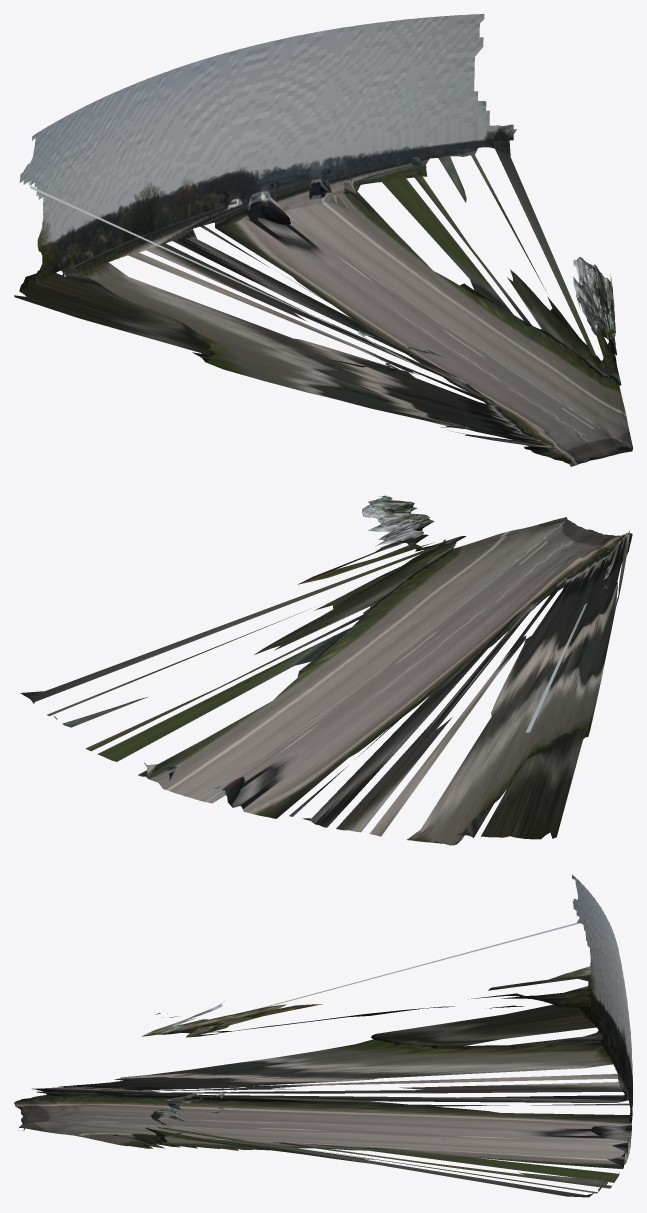
3 renders of one model, top to bottom at view 1: azimuth 30°, elevation 25°; view 2: azimuth 150°, elevation 25°; view 3: azimuth 270°, elevation 25°, orthographic. The views are drawn at different scales.
Parts seen in each view (by area): view 1: defaultobject; view 2: defaultobject; view 3: defaultobject.
Boxes of the visible parts, box(x1,y1,x2,y2) form: defaultobject: box(14, 14, 632, 466); defaultobject: box(20, 495, 632, 845); defaultobject: box(14, 874, 632, 1197).
Size of the model in its own units: 37.62 by 12.69 by 44.71.
1 material, 1 textured.
